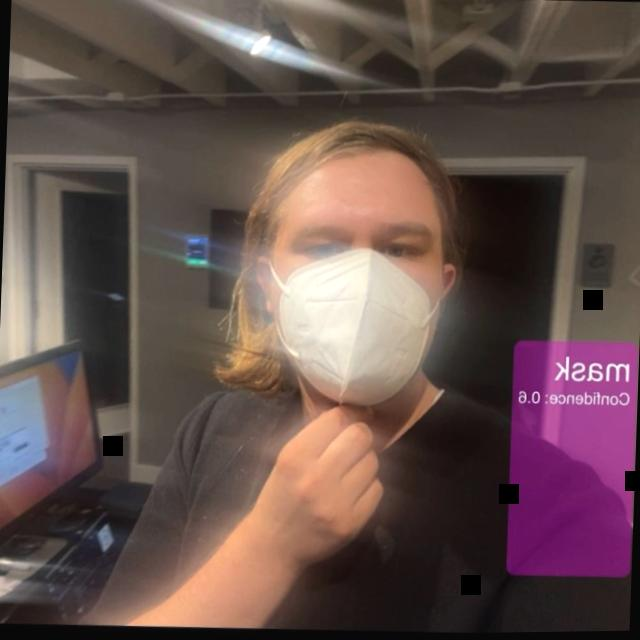Mask: (228, 107, 482, 427)
